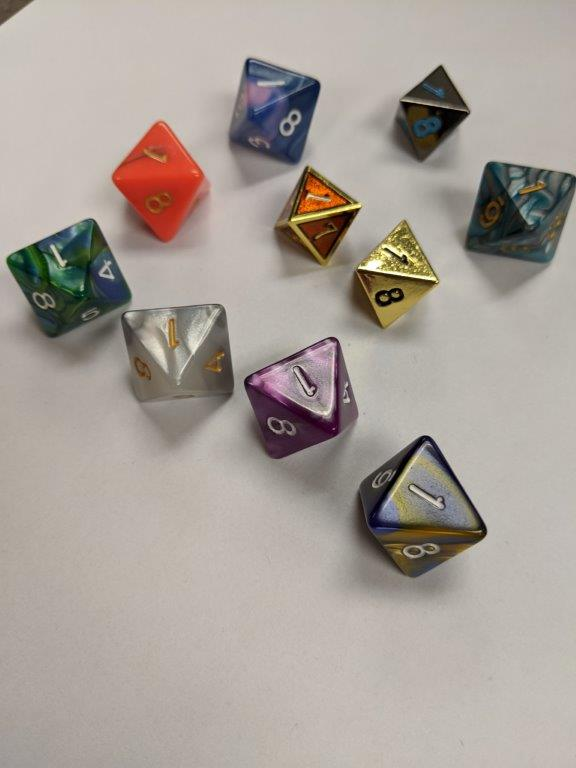d8-1: (359, 436, 487, 583), (6, 219, 131, 339), (243, 334, 358, 456), (111, 121, 211, 243), (465, 158, 576, 267), (124, 304, 237, 402), (228, 56, 321, 163), (354, 216, 438, 328), (273, 165, 360, 263), (397, 61, 470, 165)
